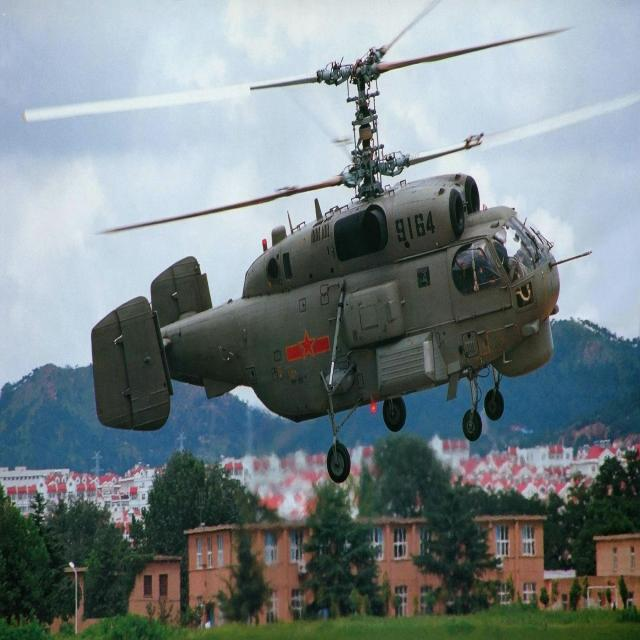MIL_HELO: (71, 0, 624, 489)
